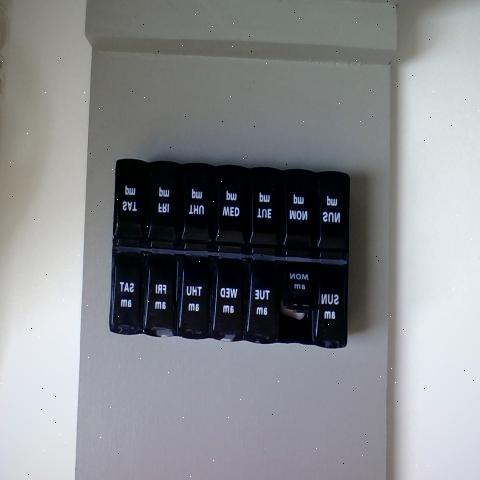FRI-am: (145, 256, 182, 334)
FRI-pm: (152, 163, 186, 249)
MON-pm: (283, 177, 317, 260)
Open: (284, 312, 314, 344)
PillBox: (93, 137, 368, 360)
SAT-am: (114, 252, 144, 332)
SAT-pm: (116, 165, 152, 248)
SUN-am: (315, 265, 348, 348)
SUN-pm: (318, 176, 349, 264)
THU-am: (183, 260, 211, 338)
THU-pm: (184, 163, 220, 252)
TUE-am: (248, 262, 283, 343)
TUE-pm: (252, 174, 283, 256)
WED-am: (214, 256, 246, 339), (218, 173, 249, 254)
